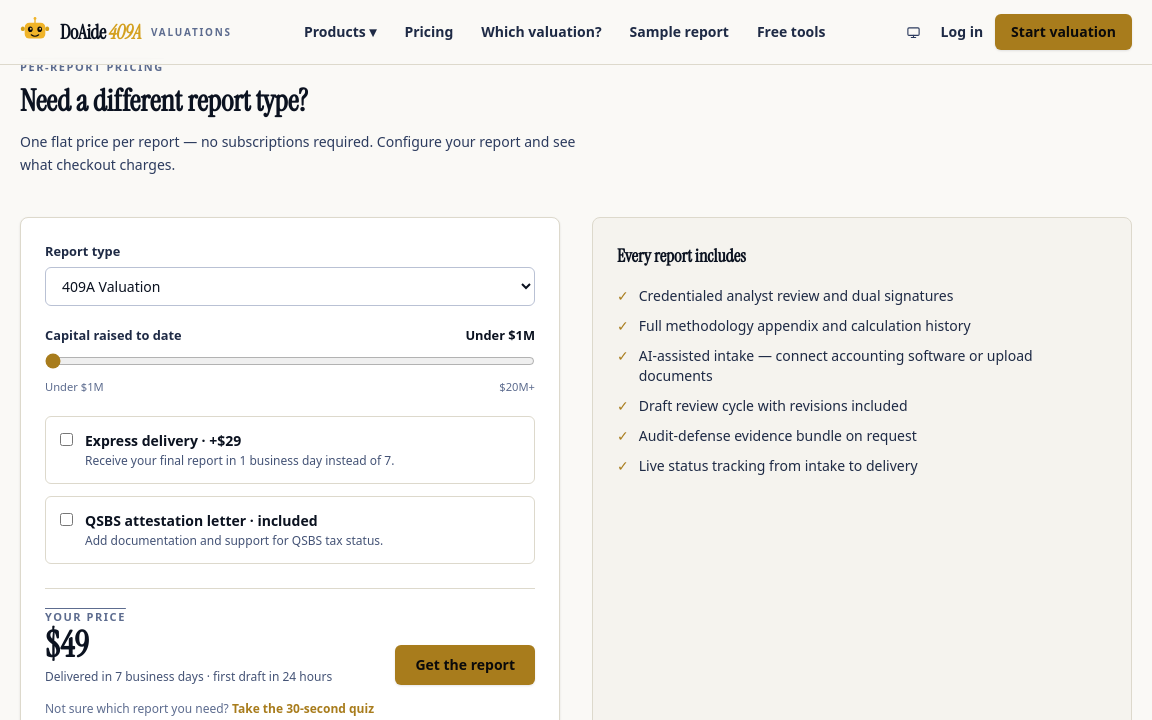
Test: pricing calculator › stays flat as the capital-raised slider moves
This screenshot has width=1152, height=720.
(page scrolled)
Expected: the text with test id "quote-total" reads "$49", x1=45 y1=621 x2=89 y2=668
Expected: the text with test id "raise-band" reads "Under $1M", x1=465 y1=326 x2=535 y2=344
Set the slider labelled "Capital raised to date Under $1M Under $1M $20M+" to "4" at (527, 361), box x1=45 y1=353 x2=535 y2=369
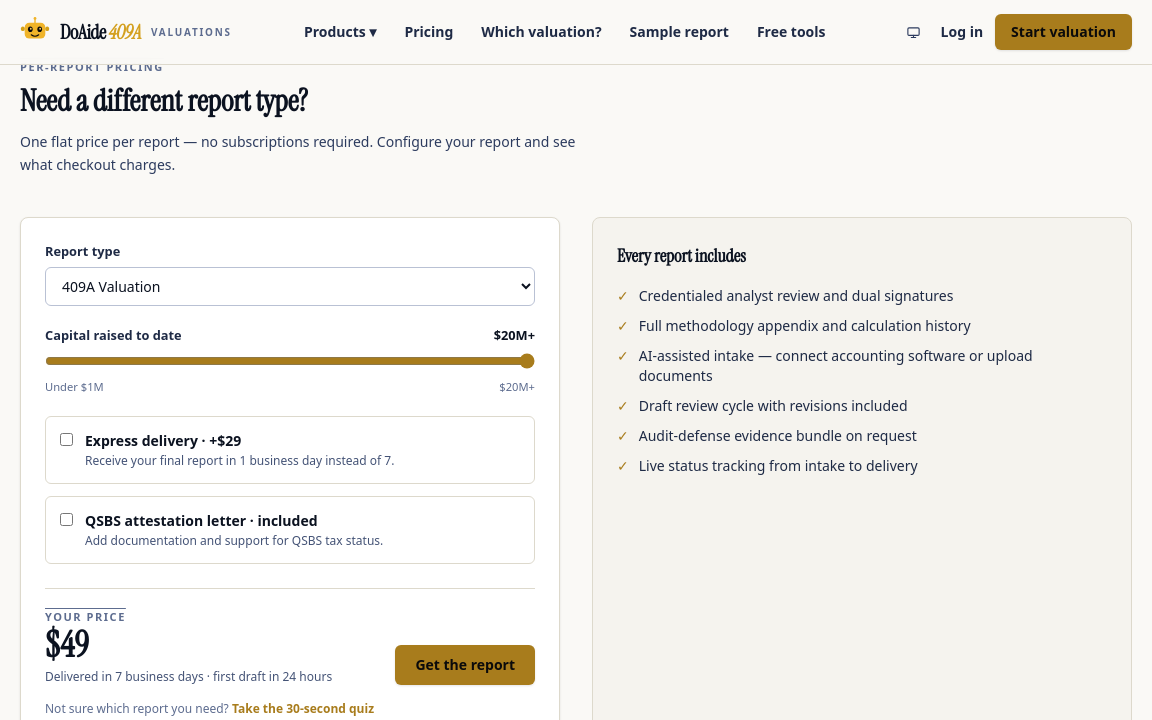
Expected: the text with test id "quote-total" reads "$49", x1=45 y1=621 x2=89 y2=668
Now the text with test id "raise-band" reads "$20M+", box x1=494 y1=326 x2=535 y2=344
